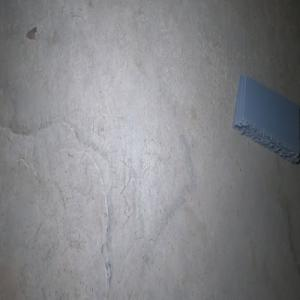PlasticPart: (231, 74, 300, 164)
